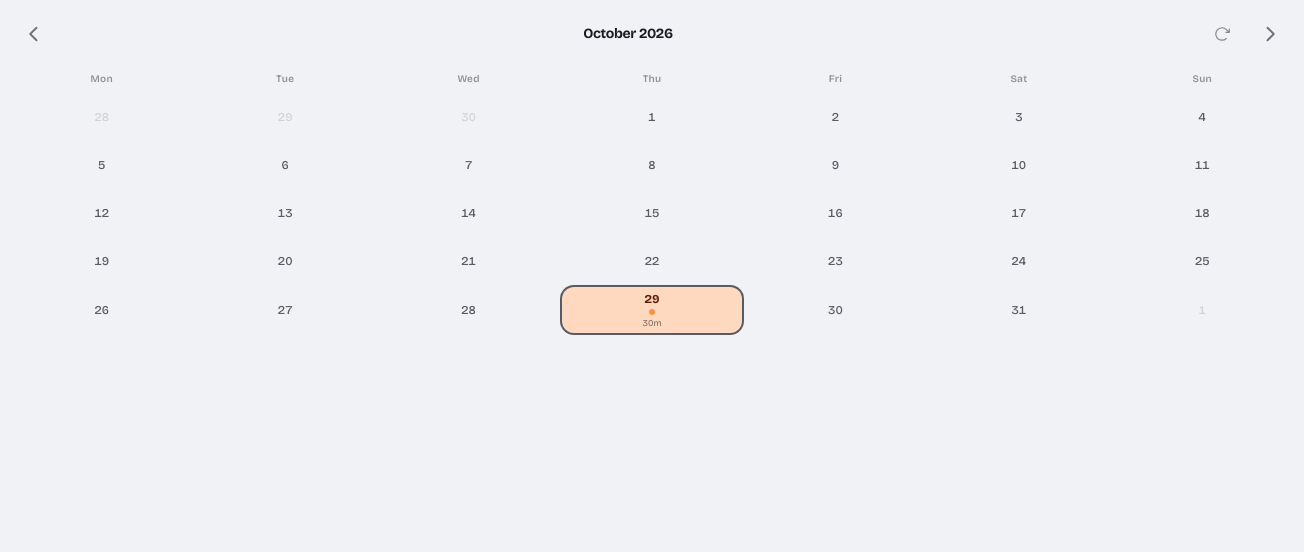
Scenario: CalendarView › opens a session detail when a day with sessions is clicked
Click the button "29 30m" at (652, 310), box x1=562 y1=287 x2=742 y2=333
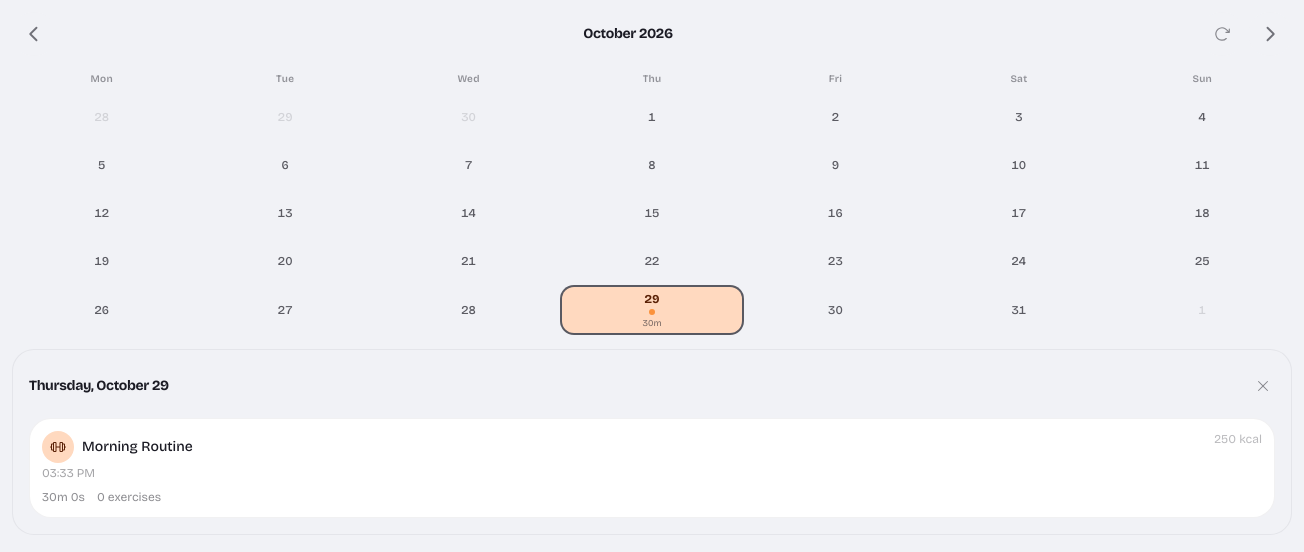
Now the text "Morning Routine" is shown, box x1=42 y1=431 x2=193 y2=463
